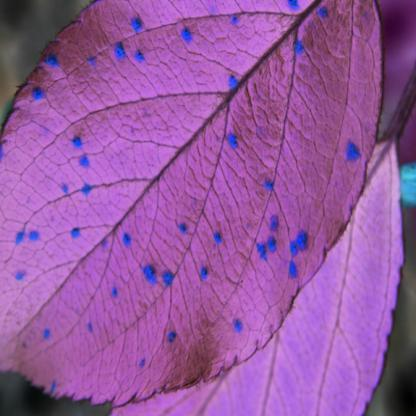Apple rust leaf: (1, 3, 391, 409)
